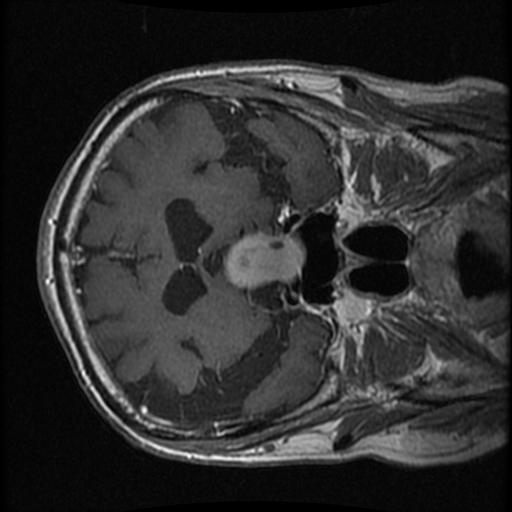pituitary tumour: (222, 232, 305, 290)
